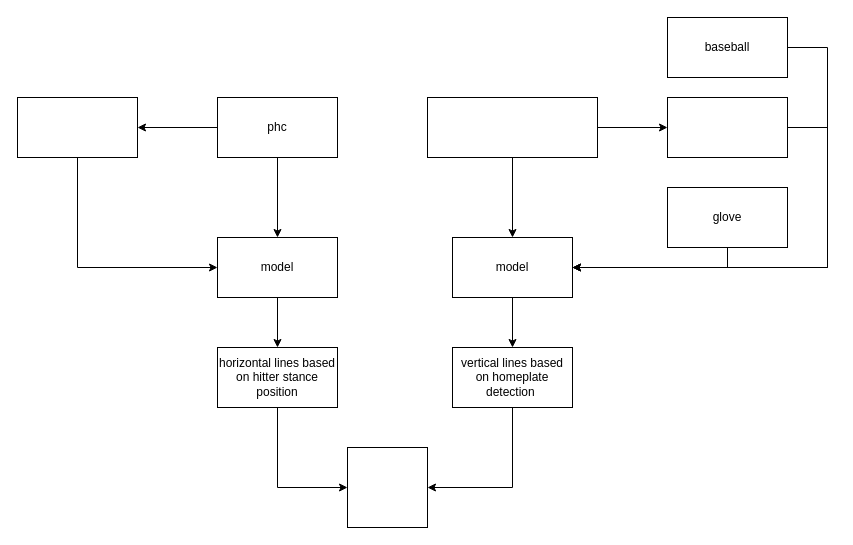
Some shapes in this 853 by 545 pixel diagram are drawn without their labels. Here are the shapes that lost their labels. From the top down, the box of each, then its label:
(16, 96, 138, 158): hitter
(426, 96, 598, 158): baseball_rubber_home_glove
(666, 96, 788, 158): home
(346, 446, 428, 528): strike zone detection
